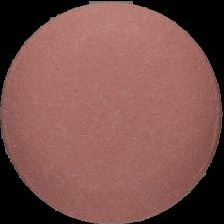54868-5461: (0, 0, 224, 224)
